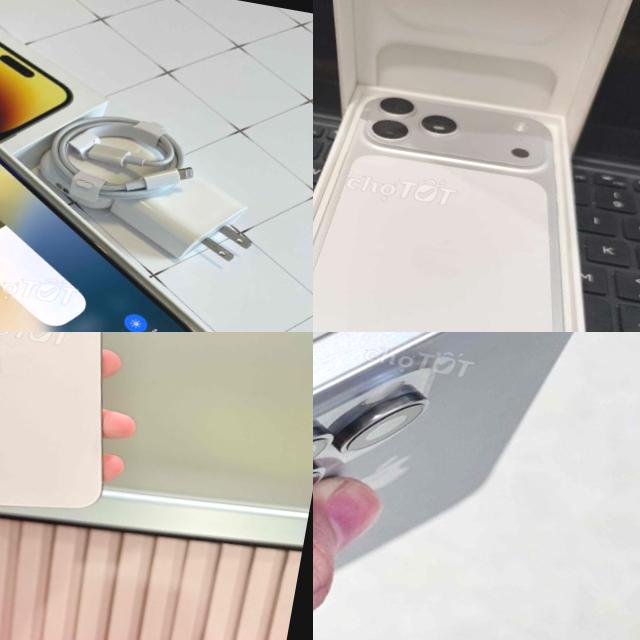gen_14: (0, 103, 230, 332)
gen_15: (313, 332, 622, 621)
gen_16: (0, 332, 101, 507)
gen_17: (313, 77, 606, 332)
